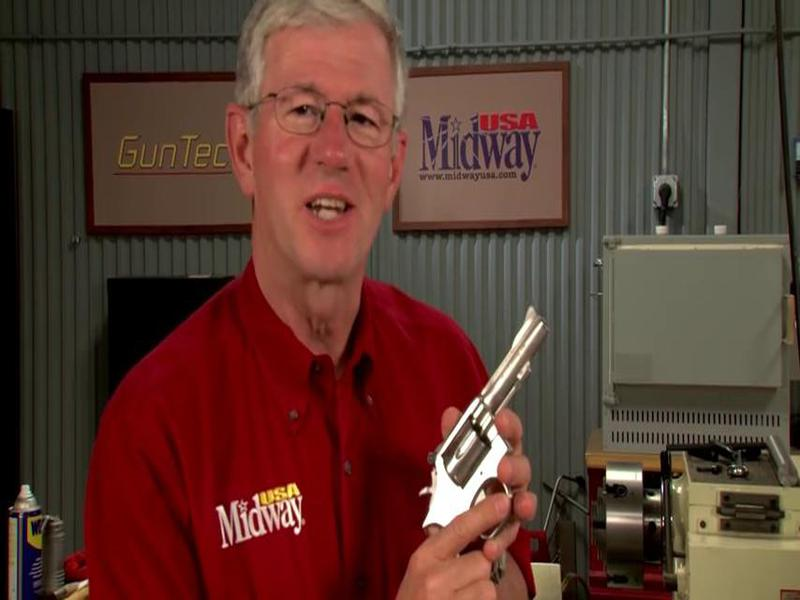Revolver: (427, 285, 546, 556)
